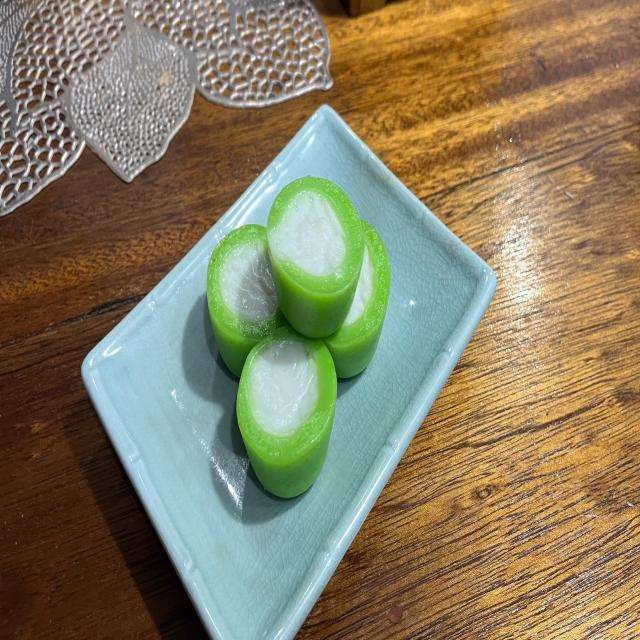nona-manis: (236, 327, 336, 498), (266, 176, 364, 338), (206, 224, 286, 378), (324, 222, 390, 378)
